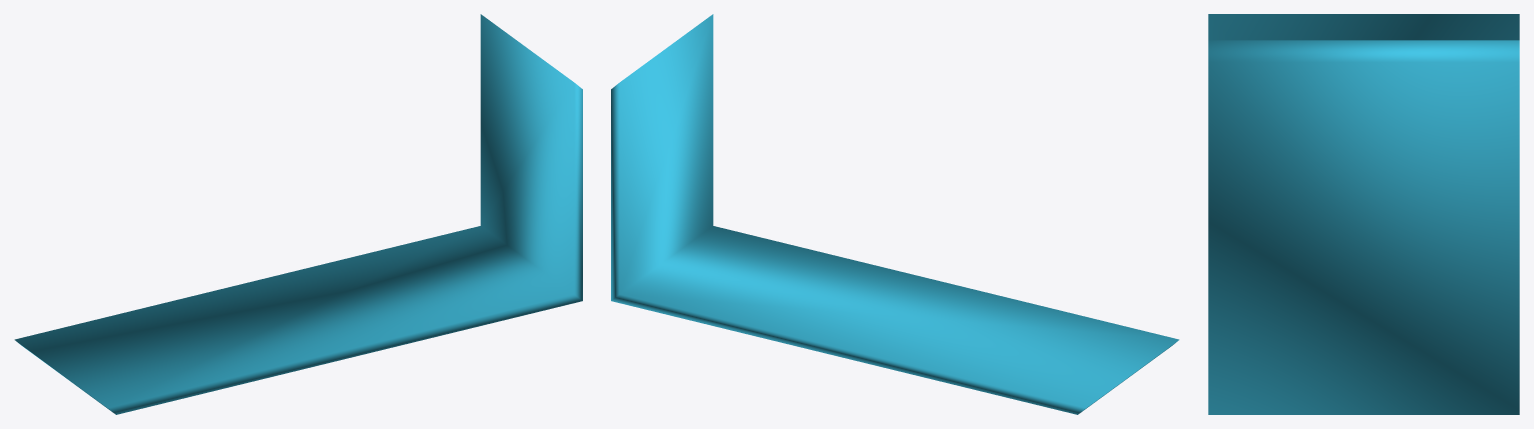
Rendered from glass5.fbx.
The picture shows the model from 3 angles, left to right: view 1: azimuth 30°, elevation 25°; view 2: azimuth 150°, elevation 25°; view 3: azimuth 270°, elevation 25°; orthographic projection. The views are drawn at different scales.
Visible parts, largest first — view 1: Plane_227; view 2: Plane_227; view 3: Plane_227.
Part boxes in pixels (x1,y1,x2,y2): Plane_227: (14,14,582,414); Plane_227: (611,14,1179,414); Plane_227: (1208,14,1519,414).
Bounding box in the file's own units: 11.74 × 5.21 × 4.
Materials: 1 (1 with a texture image).
